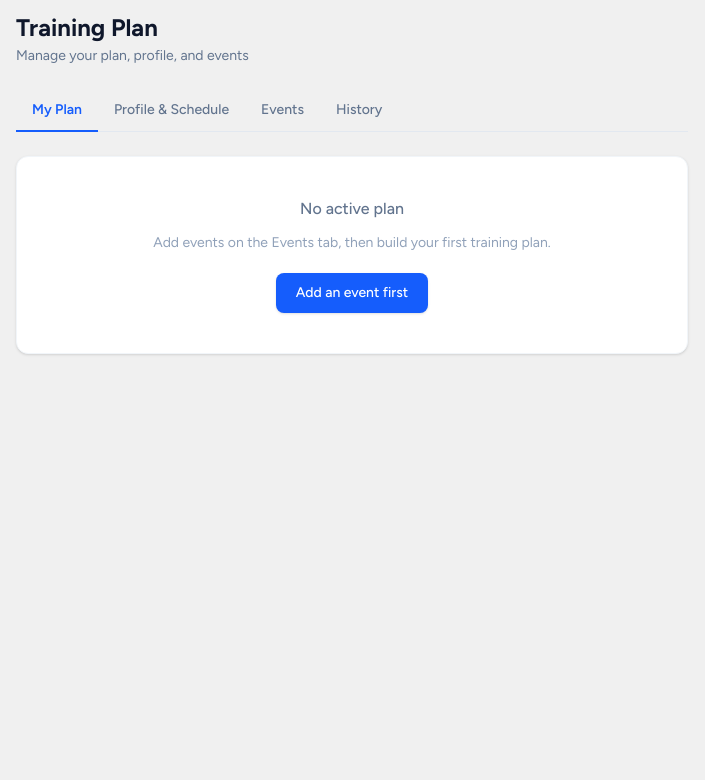
it: Profile & Schedule tab › shows goals textarea when Goals Edit is clicked
Click the button "Profile & Schedule" at (172, 111), box left=98, top=90, right=245, bottom=132
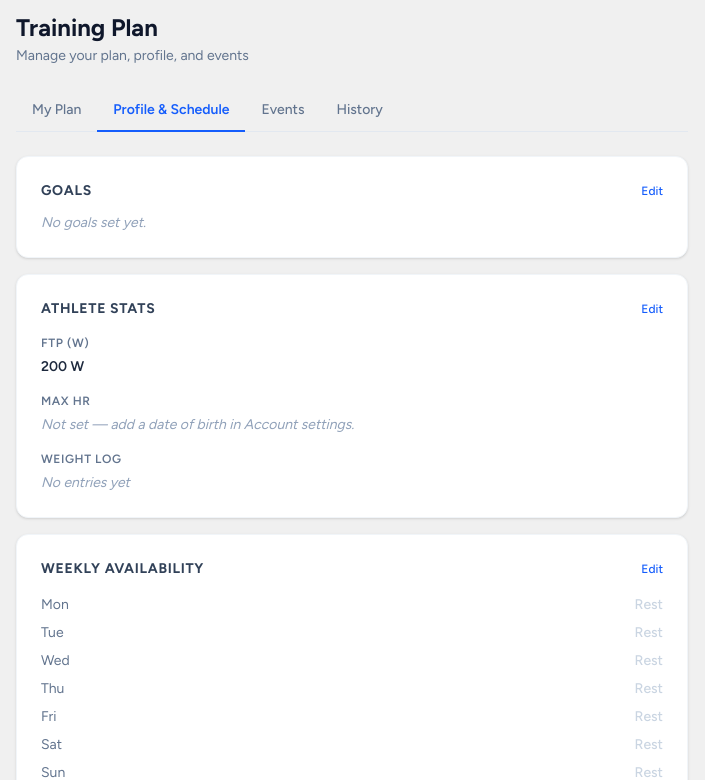
Click the button with aria-label "edit goals" at (652, 191), box left=641, top=183, right=663, bottom=199
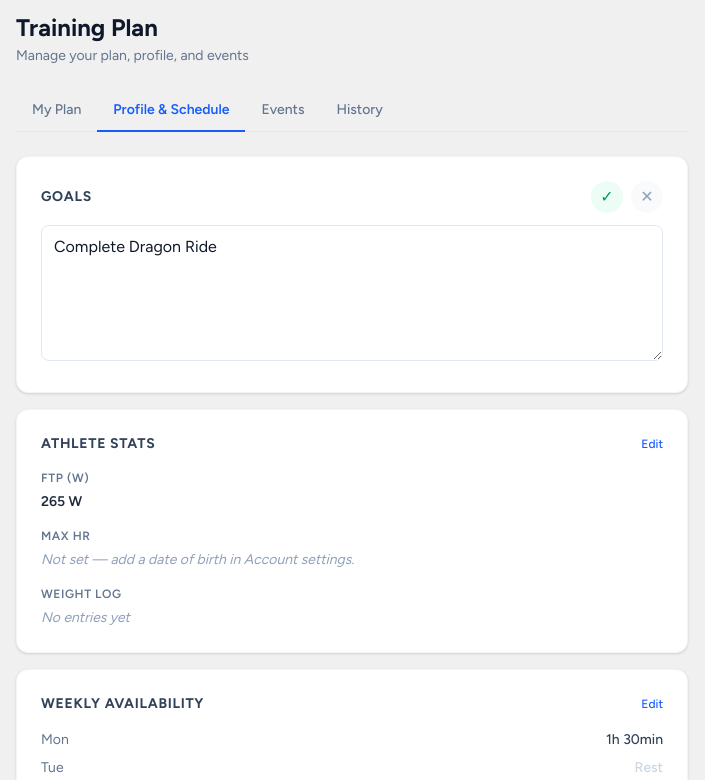
Expected: the text box with placeholder "Your goals" is shown, left=41, top=225, right=663, bottom=361
